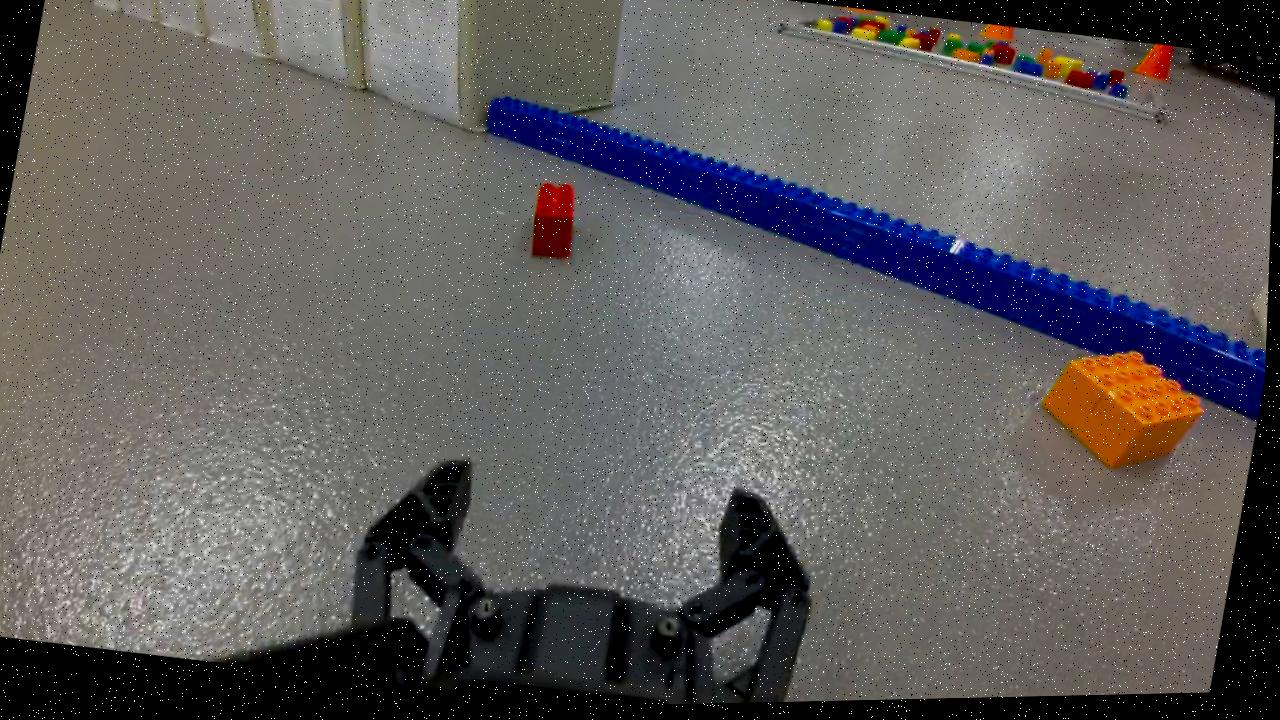2x4lego: (525, 178, 586, 269)
4x4lego: (1033, 336, 1216, 482)
